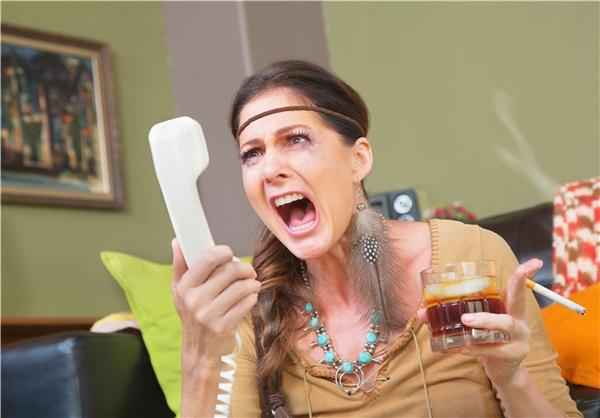smoke: (518, 273, 586, 316)
